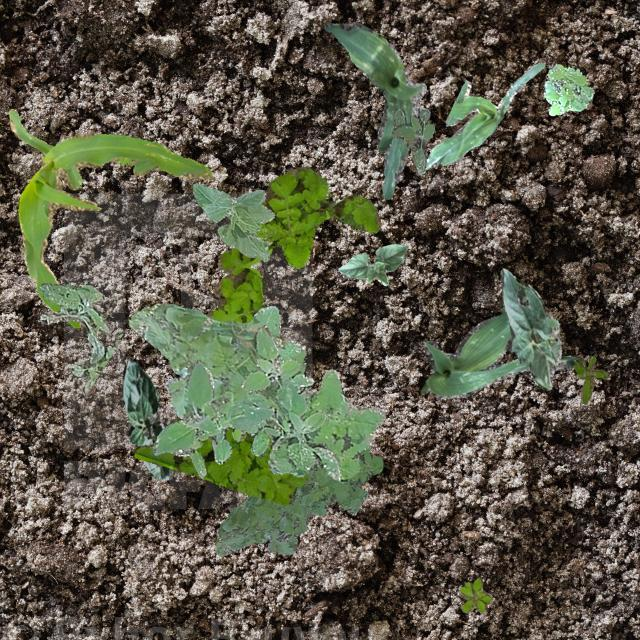crop: (8, 108, 214, 326), (322, 21, 426, 198), (419, 306, 578, 398), (424, 62, 544, 168), (500, 268, 560, 390), (192, 182, 274, 260), (120, 356, 172, 479), (336, 242, 406, 284)
weed: (133, 166, 380, 504), (128, 302, 384, 478), (150, 324, 340, 479), (215, 446, 382, 556), (38, 282, 122, 392), (170, 426, 268, 476), (391, 106, 434, 174), (542, 62, 592, 114), (572, 354, 606, 402), (459, 576, 492, 612)
